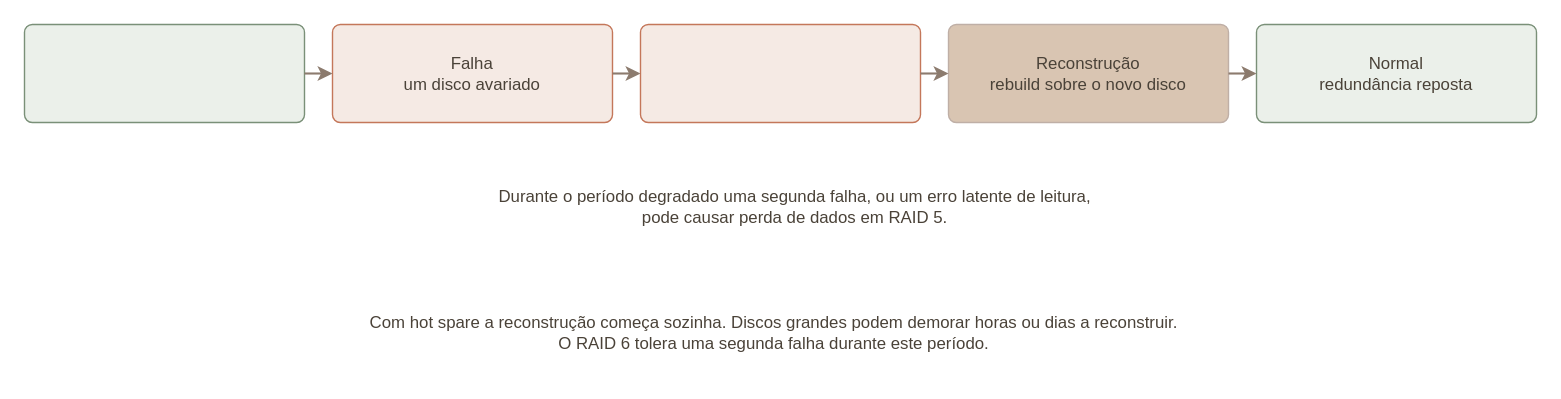
The diagram is 1561 pixels wide and 399 high, and some of its shapes have lost their labels. Here are the shapes that lost their labels. From the top down, the centre of each, then its label:
At point (163, 72): "Normal todos os discos OK".
At point (779, 72): "Degradado sem margem em RAID 5".
